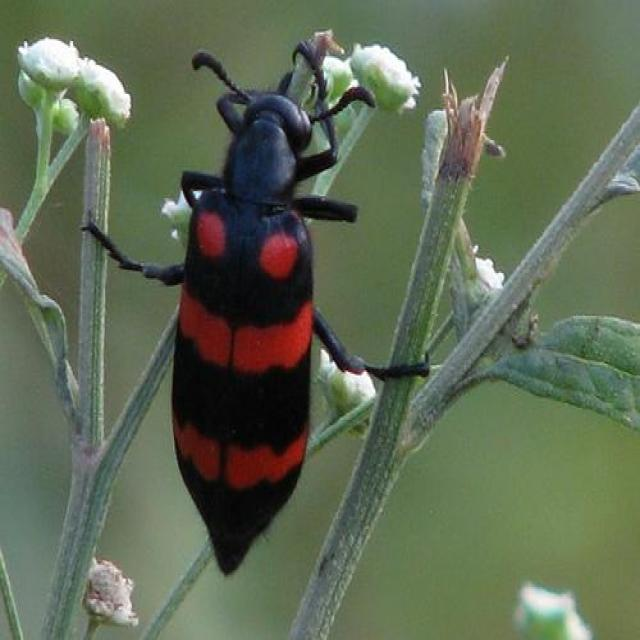BlisterBeetle-Adult-: (80, 43, 435, 583)
